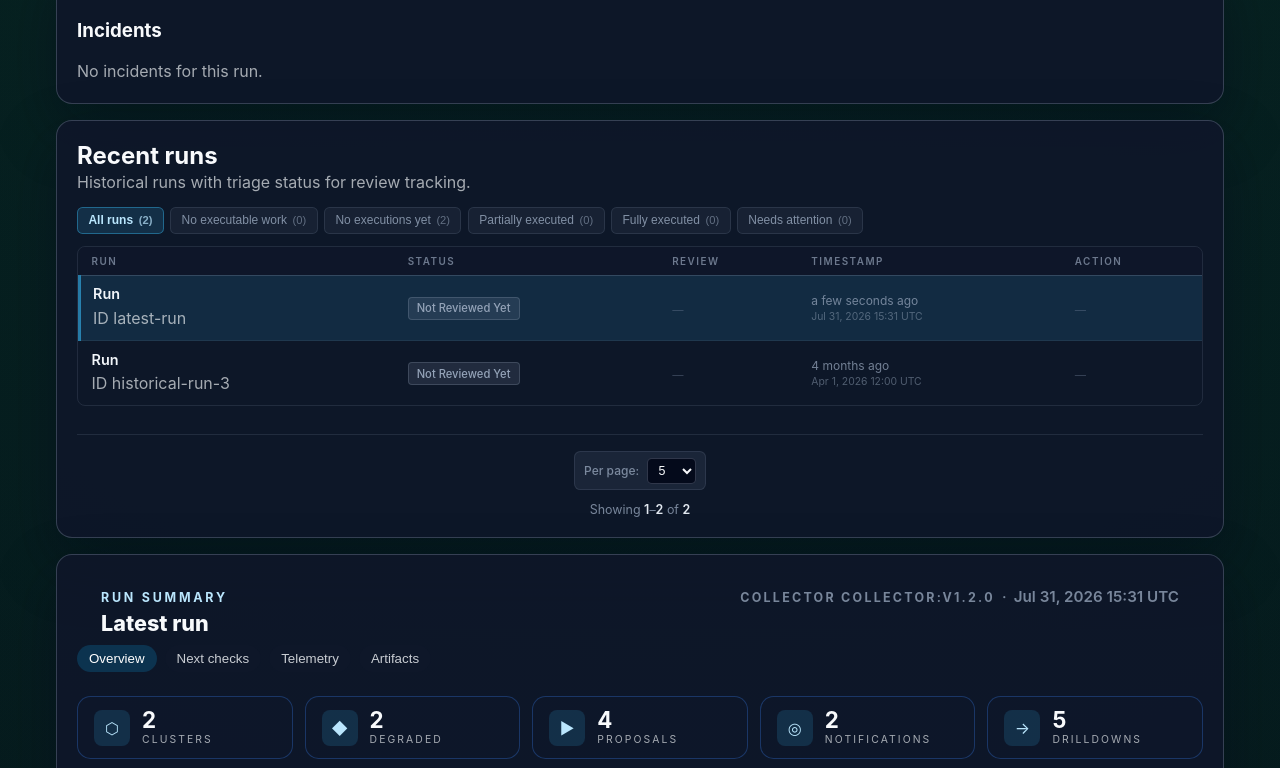
Test: Historical runs with null deterministicNextChecks › switching from latest to historical run preserves queue visibility
(page scrolled)
Click the 2nd button with class "run-row" at (171, 383), box [80, 340, 1202, 405]
(page scrolled)
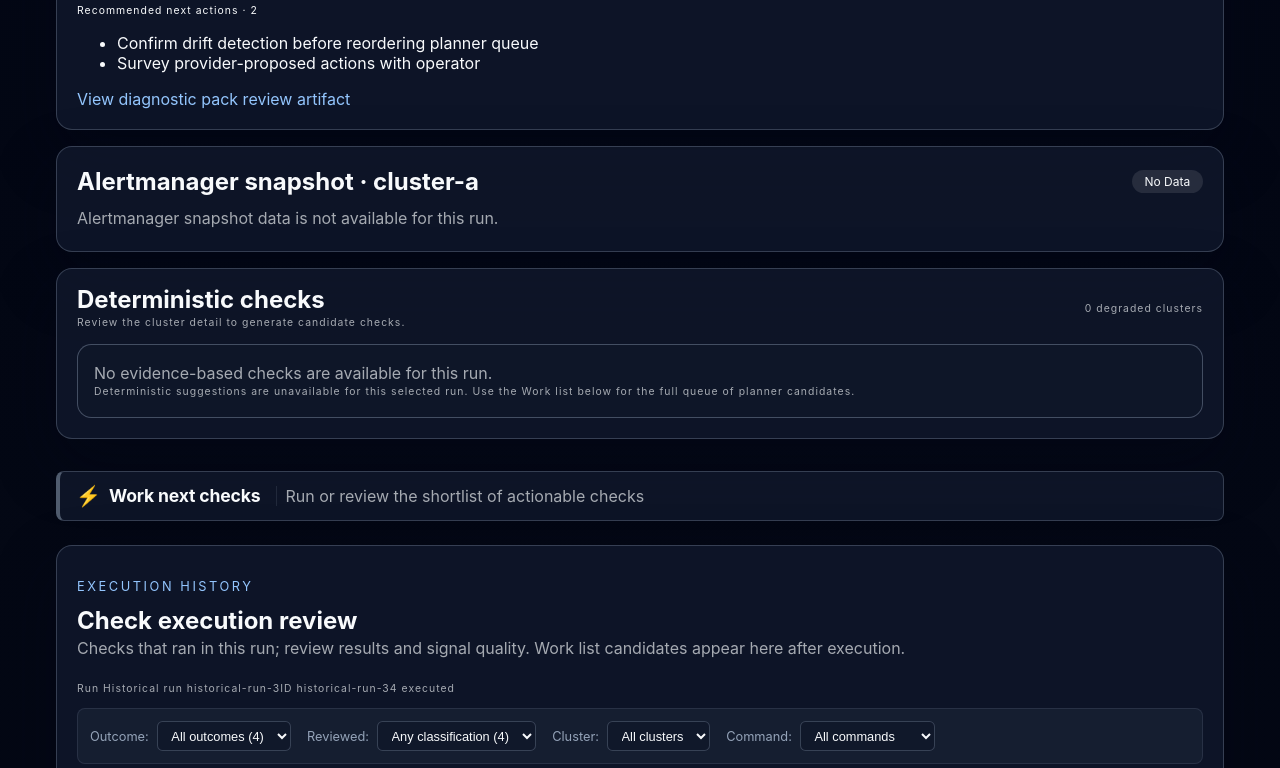
Check: the text "No evidence-based checks are available for this run." is shown, box [94, 363, 492, 383]
